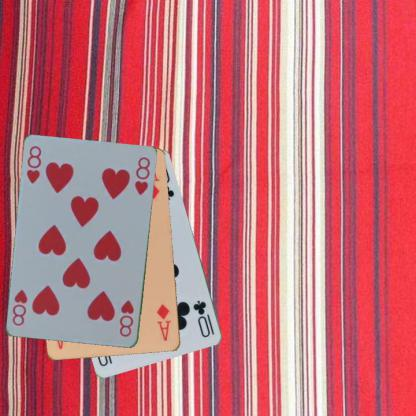10c: (191, 298, 216, 339)
8h: (24, 143, 43, 185), (116, 298, 135, 338)
Ad: (154, 301, 173, 343)
